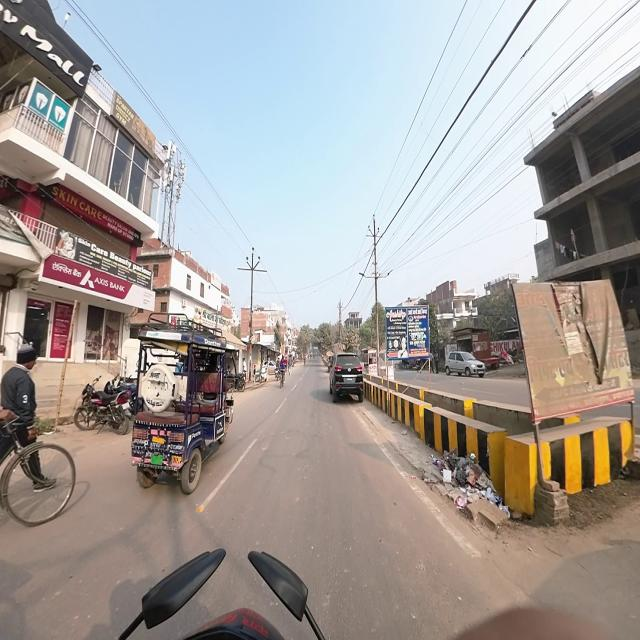Garbage: (444, 452, 496, 488)
